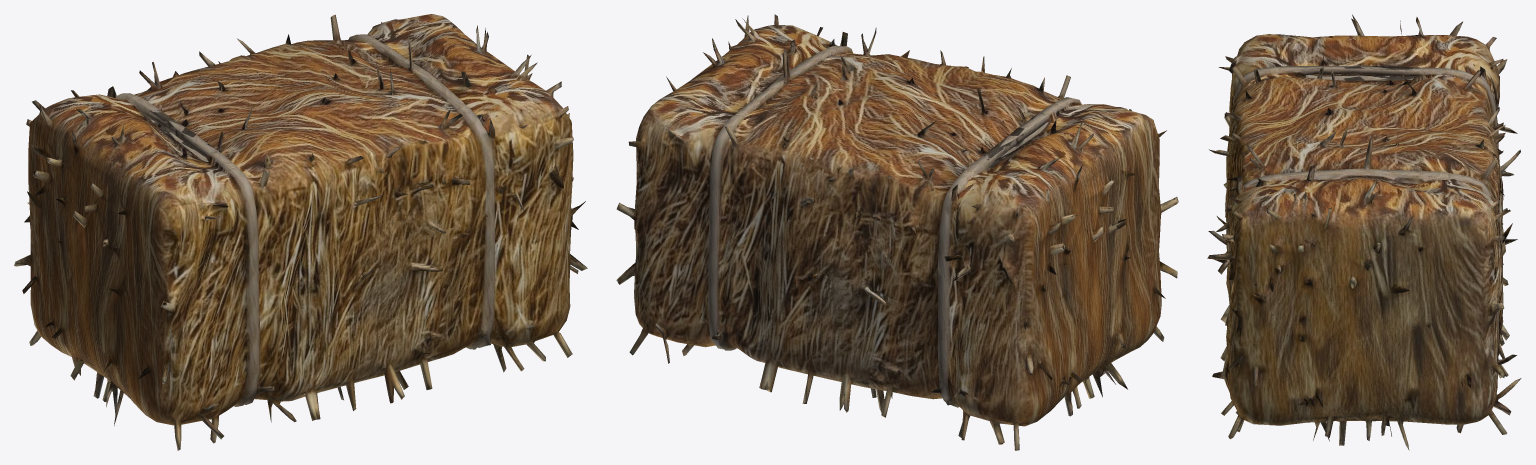
File: hay-bale.glb
3 views of the same model, side by side, from view 1: azimuth 30°, elevation 25°; view 2: azimuth 150°, elevation 25°; view 3: azimuth 270°, elevation 25° (orthographic). The views are drawn at different scales.
Size of the model in its own units: 1.2 by 0.82 by 0.8102.
1 material, 1 textured.
